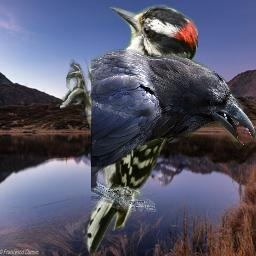Crow: (91, 49, 256, 212)
Woodpecker: (60, 1, 198, 256)
